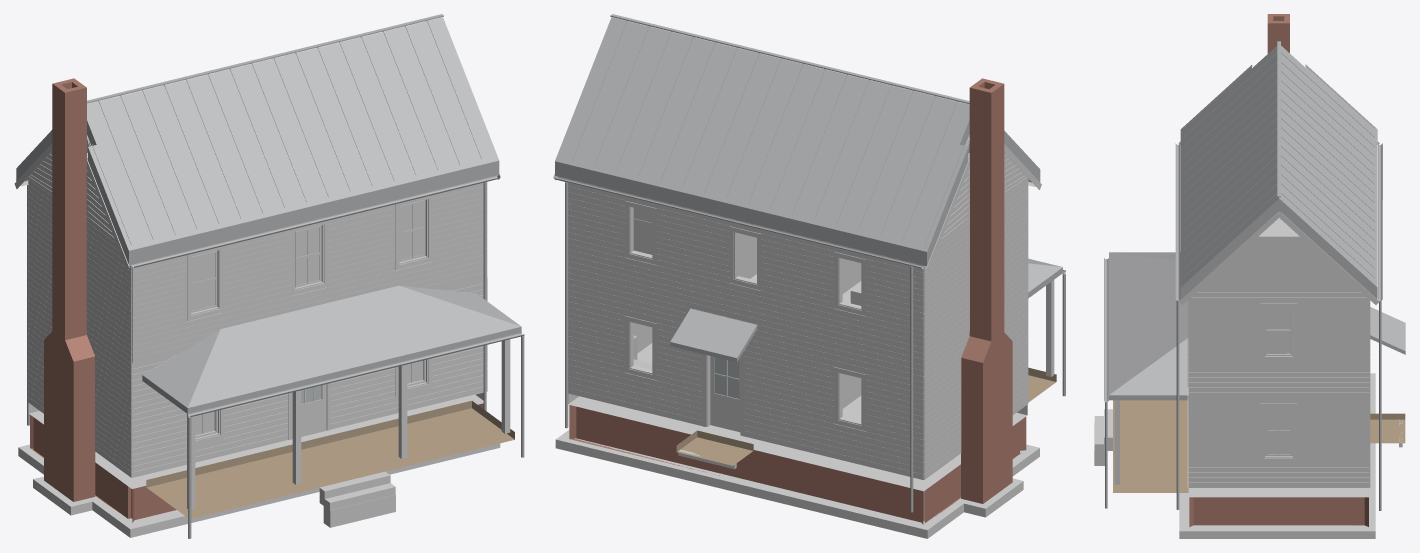
3 views of the same model, side by side, from view 1: azimuth 30°, elevation 25°; view 2: azimuth 150°, elevation 25°; view 3: azimuth 270°, elevation 25° (orthographic). The views are drawn at different scales.
Size of the model in its own units: 10.91 by 10.95 by 8.57.
